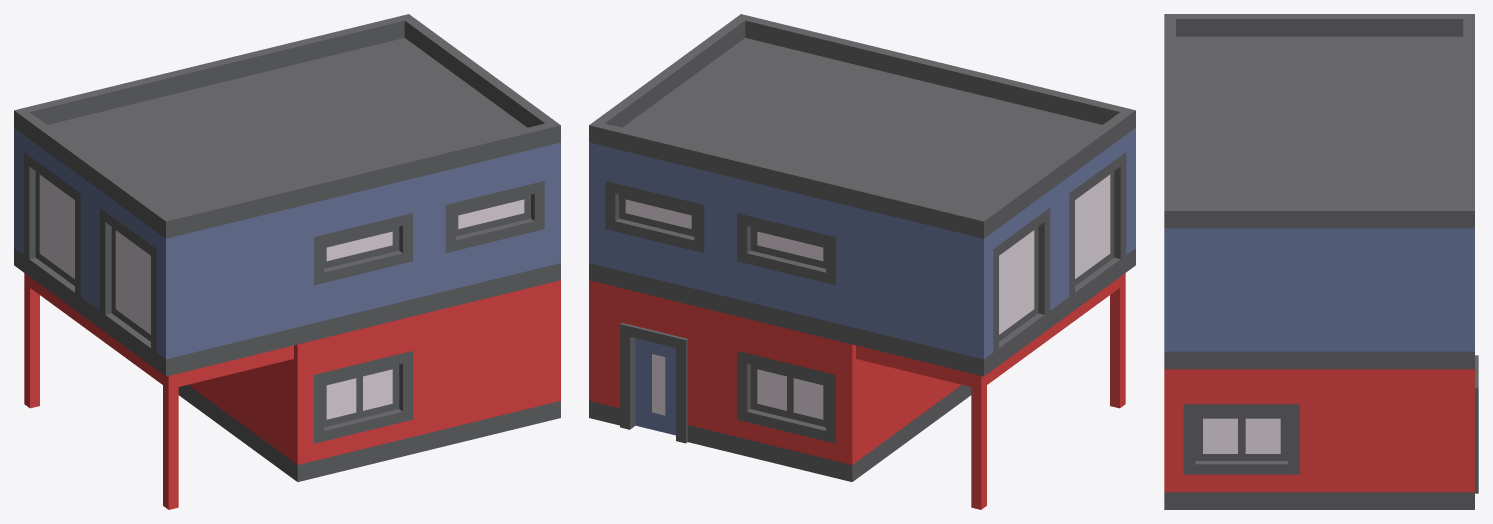
File: htype20.glb
The picture shows the model from 3 angles, left to right: view 1: azimuth 30°, elevation 25°; view 2: azimuth 150°, elevation 25°; view 3: azimuth 270°, elevation 25°; orthographic projection. The views are drawn at different scales.
Parts seen in each view (by area): view 1: house_type20 -convcol; view 2: house_type20 -convcol; view 3: house_type20 -convcol.
Part boxes in pixels (x1,y1,x2,y2): house_type20 -convcol: (14, 14, 560, 509); house_type20 -convcol: (589, 14, 1135, 509); house_type20 -convcol: (1164, 14, 1478, 509).
Bounding box in the file's own units: 18 × 12.75 × 12.15.
